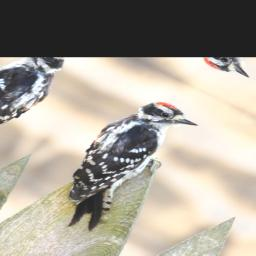Woodpecker: (20, 89, 207, 235)
